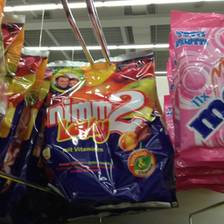candy: (47, 60, 162, 198), (165, 7, 222, 160)
